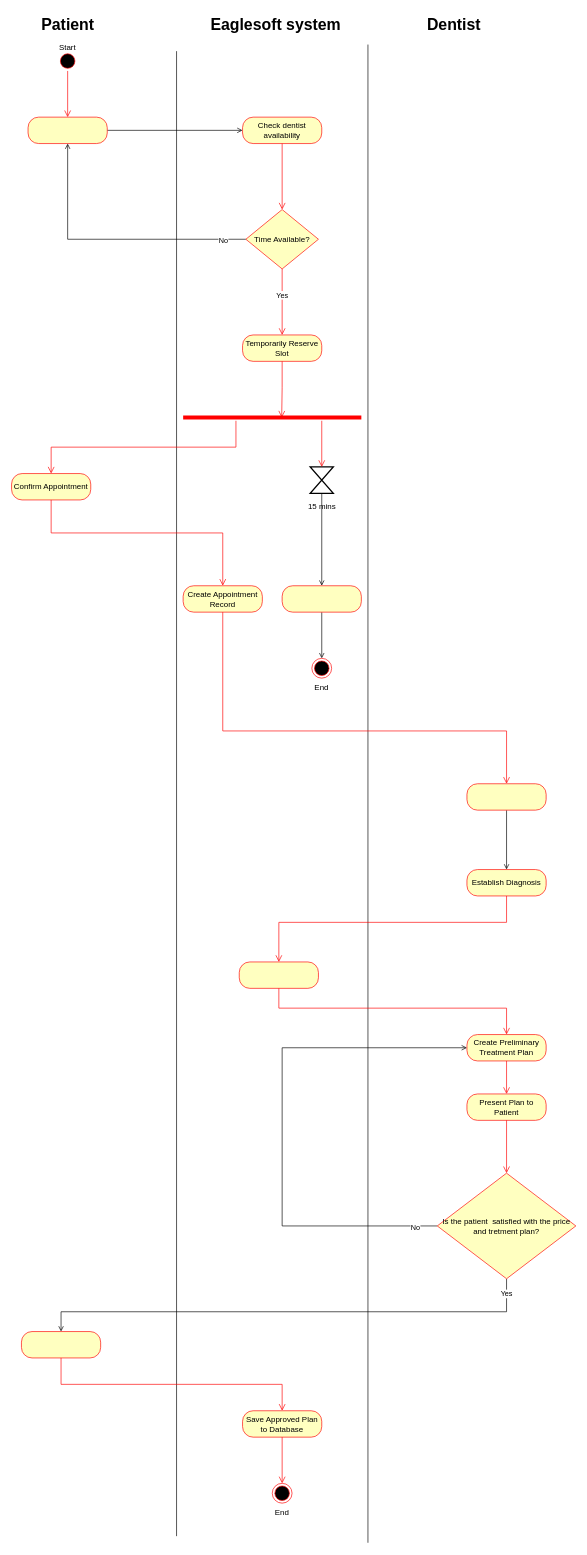
The diagram is 587 pixels wide and 1555 high, and some of its shapes have lost their labels. The shapes that lost their labels are listed below. From the top down, each one's centre as x and y in pixels, then its label:
the point at 67,130: Select Appointment Slot
the point at 321,598: Cancel Reservation
the point at 506,796: Perform Clinical Examination
the point at 278,974: Record Diagnosis in system (EHR)
the point at 61,1344: Sign Treatment Plan
